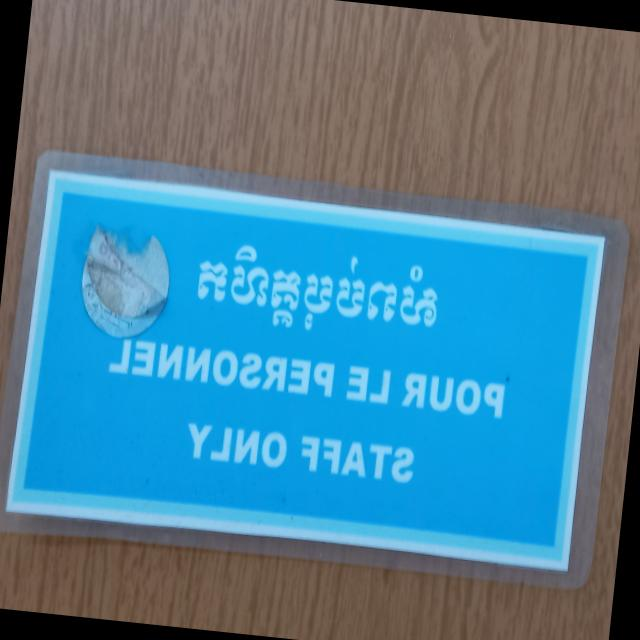Yolov11kh: (182, 227, 452, 354)
